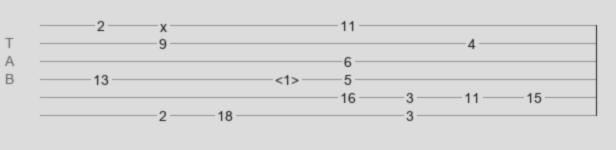11: (340, 18, 356, 28), (464, 90, 480, 100)
13: (93, 72, 109, 82)
15: (526, 90, 542, 100)
16: (340, 90, 356, 100)
18: (217, 108, 233, 118)
2: (97, 18, 105, 28), (159, 108, 167, 118)
3: (406, 90, 414, 100), (406, 108, 414, 118)
4: (468, 36, 476, 46)
5: (344, 72, 352, 82)
6: (344, 54, 352, 64)
9: (159, 36, 167, 46)
harmonic: (275, 72, 299, 82)
x: (160, 19, 167, 27)
